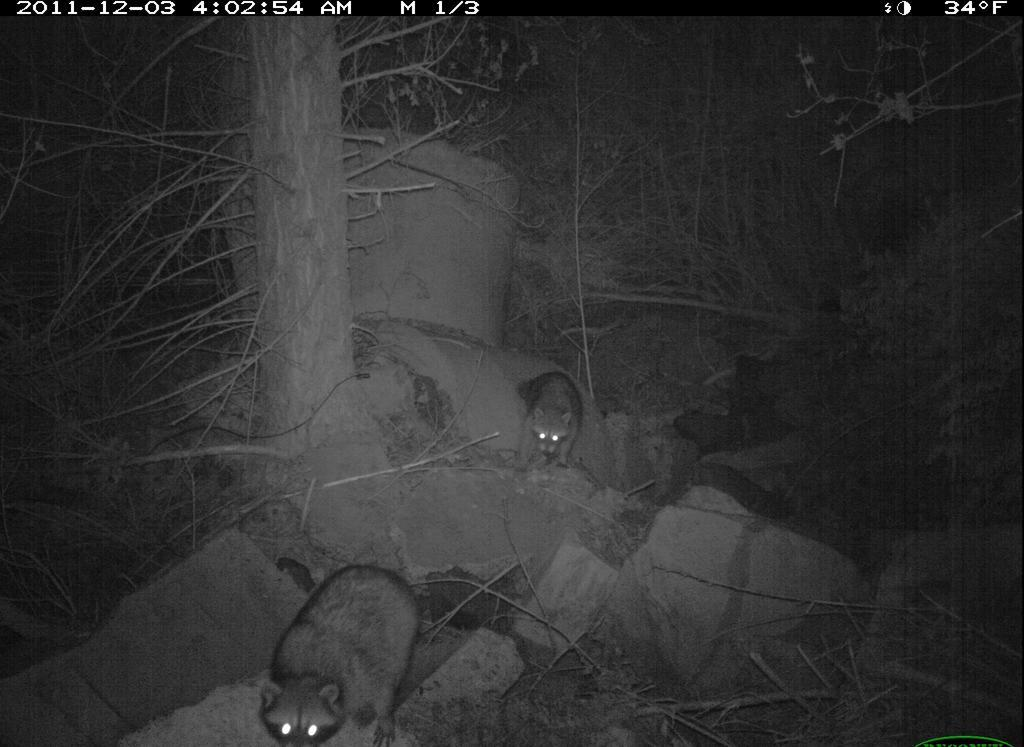raccoon: (267, 561, 428, 745)
